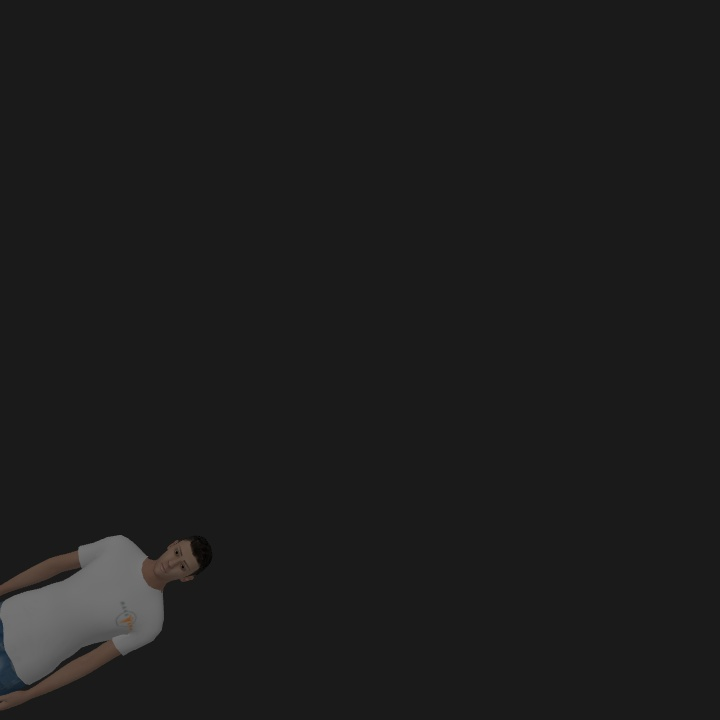victim: (4, 533, 213, 709)
